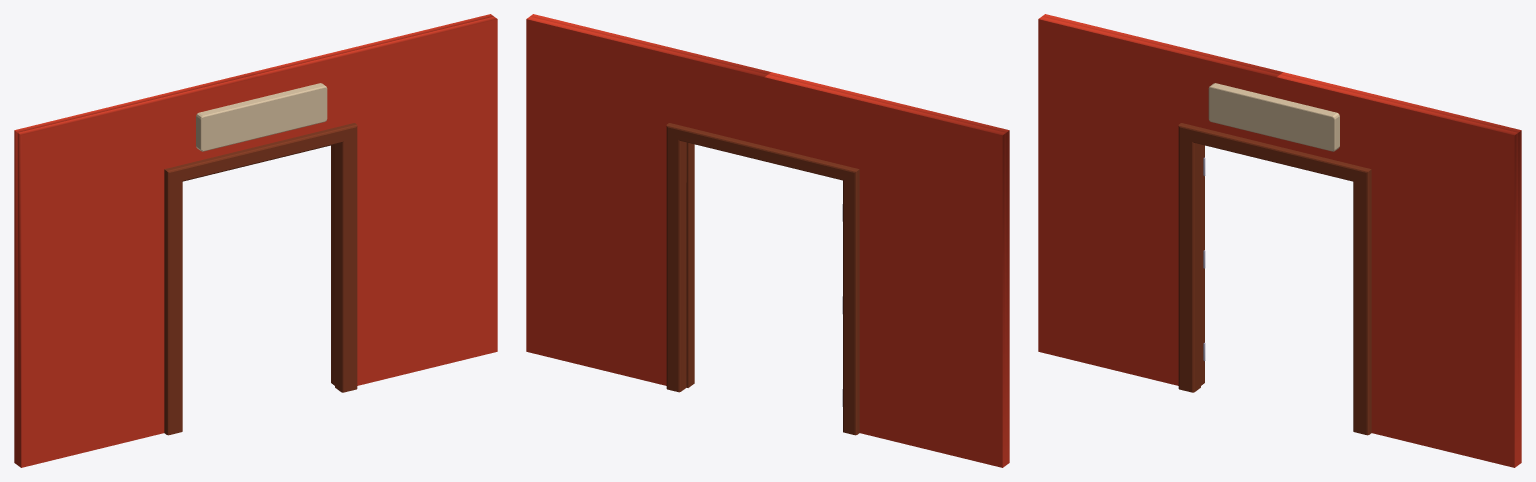
The model's file is Passagem.fbx.
3 renders of one model, left to right at view 1: azimuth 30°, elevation 25°; view 2: azimuth 150°, elevation 25°; view 3: azimuth 330°, elevation 25°, orthographic.
Parts seen in each view (by area): view 1: PassagemPorta, RodapePorta, Placa; view 2: PassagemPorta, RodapePorta; view 3: PassagemPorta, RodapePorta, Placa.
Boxes of the visible parts, bbox=[...] form: PassagemPorta: bbox=[14, 14, 497, 467]; RodapePorta: bbox=[164, 123, 357, 435]; Placa: bbox=[196, 83, 327, 151]; PassagemPorta: bbox=[526, 14, 1009, 467]; RodapePorta: bbox=[666, 123, 859, 435]; PassagemPorta: bbox=[1038, 14, 1521, 467]; RodapePorta: bbox=[1178, 123, 1371, 435]; Placa: bbox=[1208, 83, 1339, 151].
Size of the model in its own units: 600 by 400 by 33.42.
